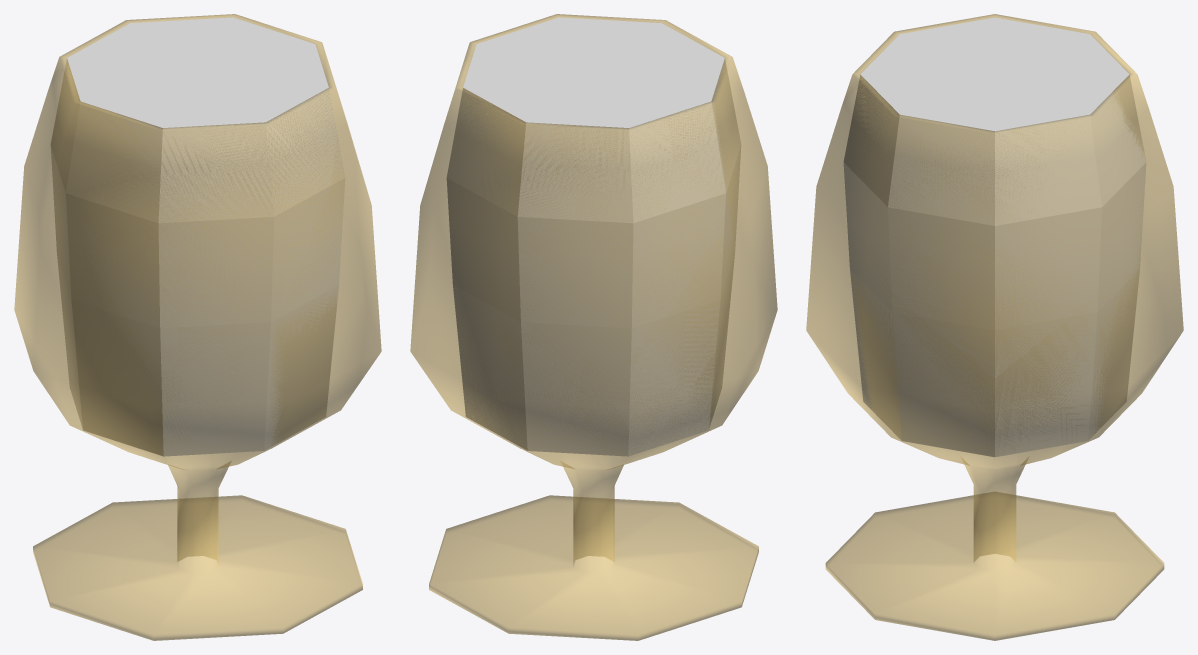
File: glass3.fbx
3 views of the same model, side by side, from view 1: azimuth 30°, elevation 25°; view 2: azimuth 150°, elevation 25°; view 3: azimuth 270°, elevation 25° (orthographic).
Parts seen in each view (by area): view 1: glass3, liquid3; view 2: glass3, liquid3; view 3: glass3, liquid3.
Boxes of the visible parts, x1,y1,x2,y2 form: glass3: [14, 14, 381, 640]; liquid3: [51, 17, 344, 456]; glass3: [410, 14, 777, 640]; liquid3: [446, 17, 740, 456]; glass3: [806, 14, 1183, 640]; liquid3: [843, 17, 1146, 457].
Size of the model in its own units: 278 by 402 by 278.
